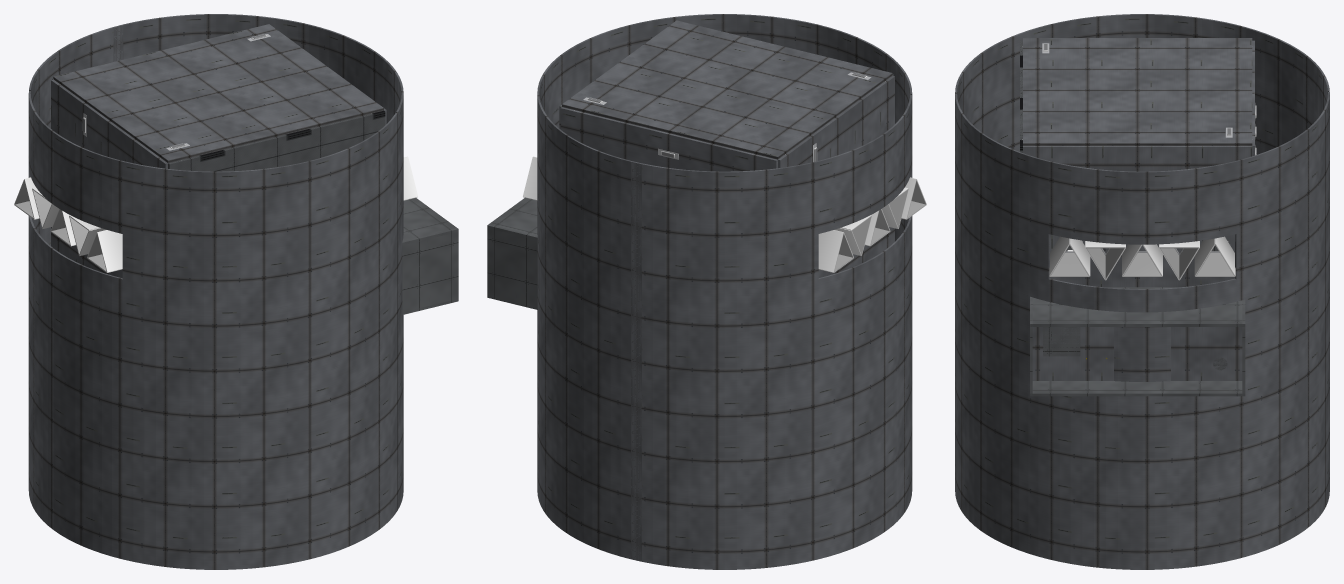
Rendered from WayfarerInterior.fbx.
The picture shows the model from 3 angles, left to right: view 1: azimuth 30°, elevation 25°; view 2: azimuth 150°, elevation 25°; view 3: azimuth 270°, elevation 25°; orthographic projection.
Visible parts, largest first — view 1: Mesh_WallPanel, Mesh_Locker, Mesh_DeckPlate, Mesh_FrameDark.001; view 2: Mesh_WallPanel, Mesh_Locker, Mesh_FrameDark.001; view 3: Mesh_WallPanel, Mesh_Locker, Mesh_FrameDark.001.
Boxes of the visible parts, x1,y1,x2,y2 form: Mesh_WallPanel: [28, 14, 403, 569]; Mesh_Locker: [402, 198, 458, 314]; Mesh_DeckPlate: [168, 110, 385, 171]; Mesh_FrameDark.001: [14, 34, 417, 272]; Mesh_WallPanel: [537, 14, 912, 569]; Mesh_Locker: [487, 198, 537, 309]; Mesh_FrameDark.001: [523, 73, 926, 272]; Mesh_WallPanel: [955, 14, 1329, 569]; Mesh_Locker: [1030, 249, 1245, 396]; Mesh_FrameDark.001: [1043, 50, 1256, 280].
Bounding box in the file's own units: 4.04 × 4.49 × 3.76.
